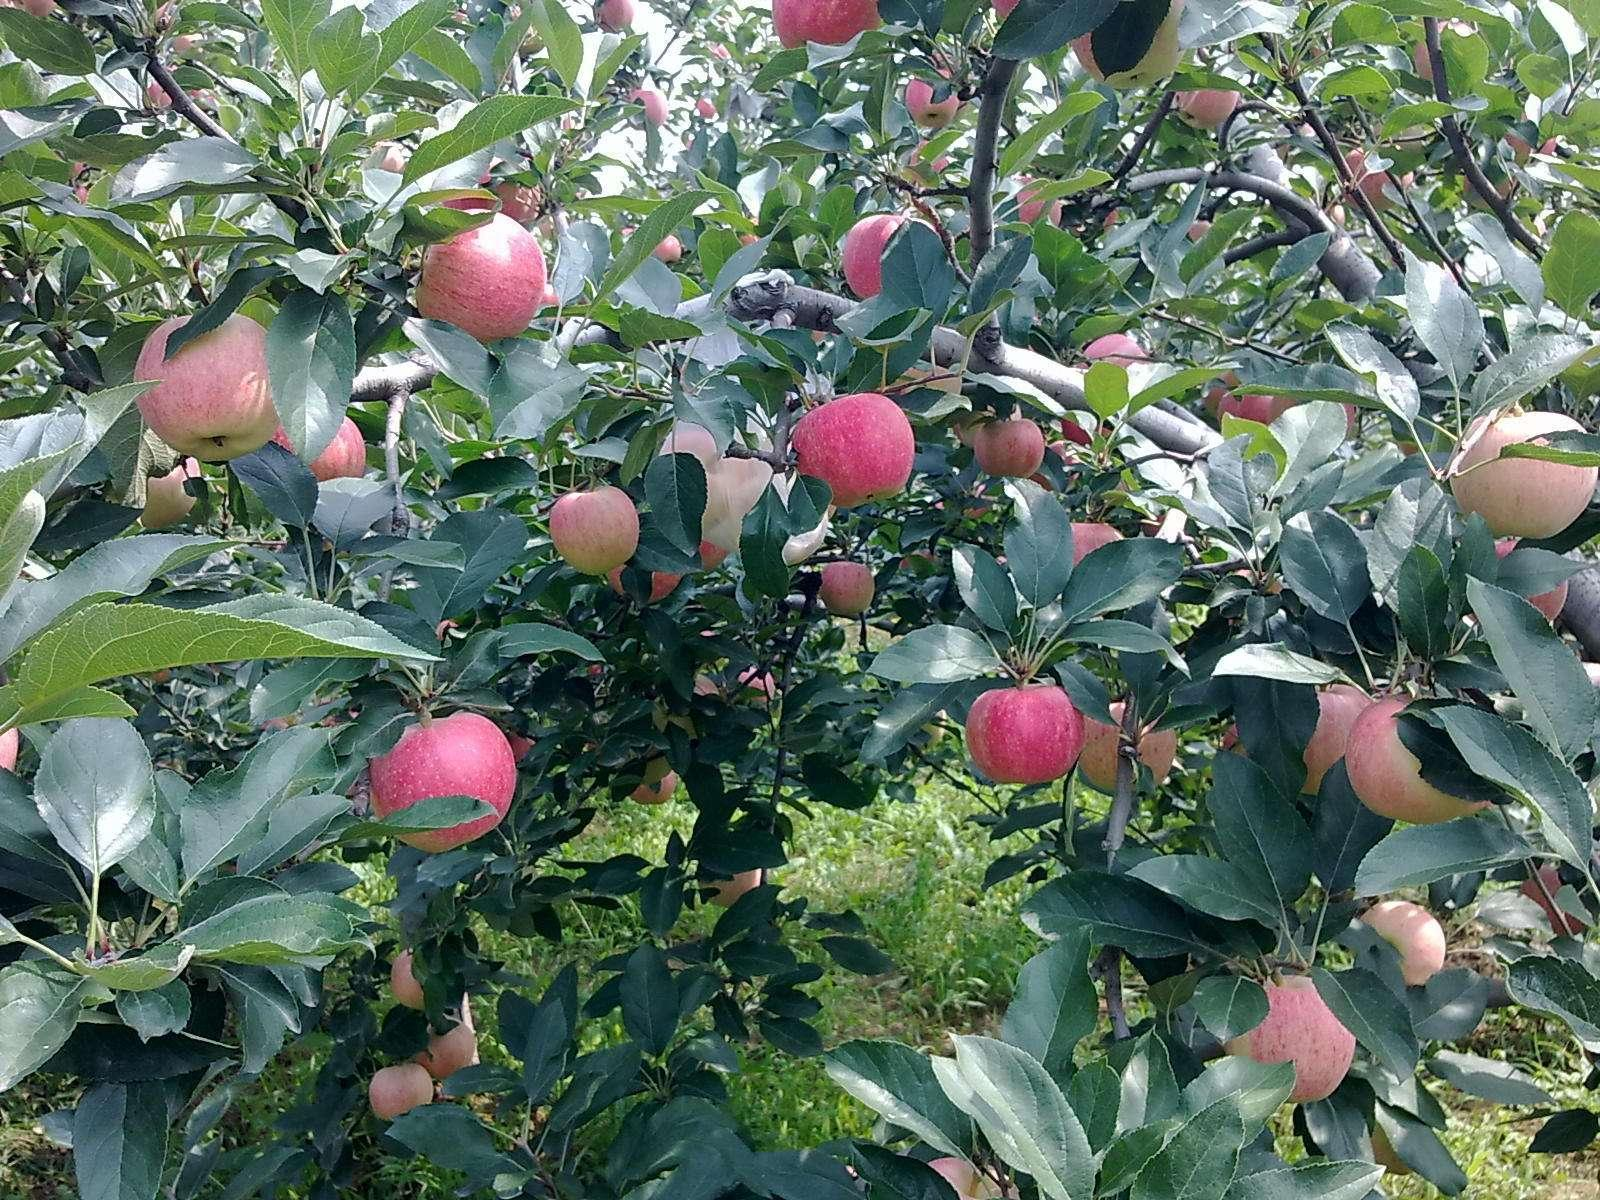apple: (131, 300, 287, 464), (1446, 407, 1597, 541), (363, 712, 511, 841), (1347, 698, 1489, 822), (414, 218, 548, 343), (1237, 972, 1356, 1102), (790, 391, 913, 505), (965, 684, 1087, 784), (1082, 701, 1180, 794), (1073, 11, 1183, 89), (546, 484, 635, 574), (1359, 899, 1448, 989), (275, 405, 367, 485), (1306, 679, 1369, 795), (839, 213, 905, 297), (769, 1, 879, 49), (391, 949, 472, 1013), (968, 415, 1046, 482), (368, 1065, 436, 1121), (816, 561, 873, 618), (423, 1020, 475, 1078), (1173, 87, 1241, 130)
